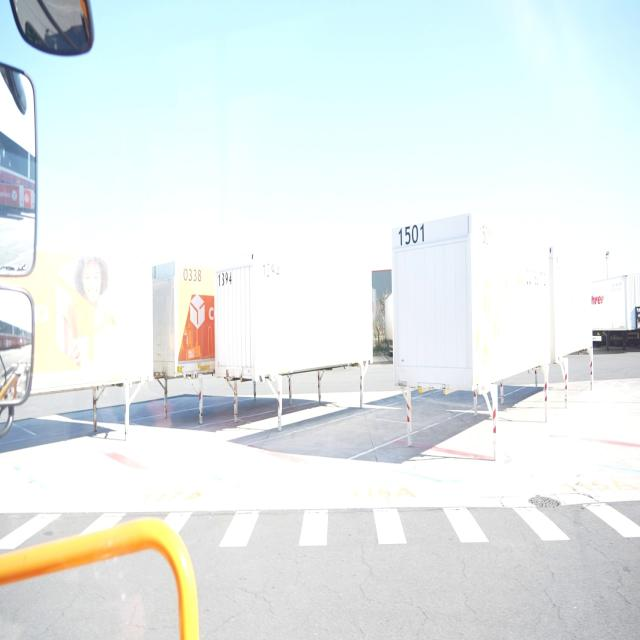Code: (398, 219, 428, 251), (181, 262, 202, 286), (215, 268, 234, 290)
